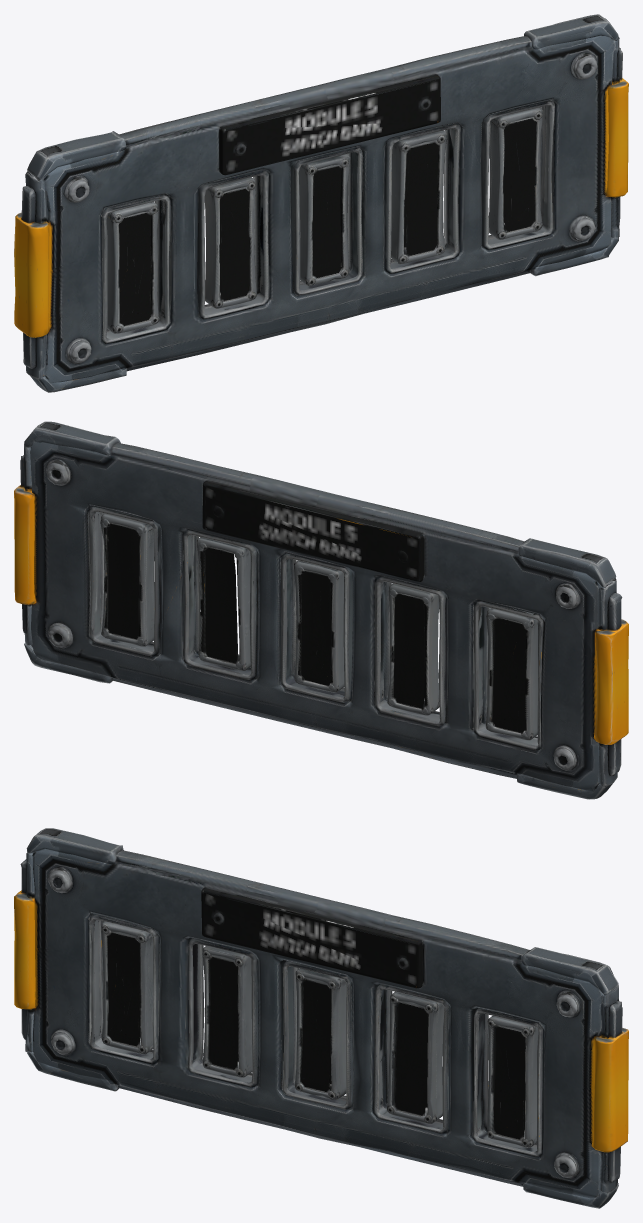
The model's file is SwitchBox.glb.
3 renders of one model, top to bottom at view 1: azimuth 30°, elevation 25°; view 2: azimuth 150°, elevation 25°; view 3: azimuth 330°, elevation 25°, orthographic.
Bounding box in the file's own units: 1 × 0.3848 × 0.0669.
Materials: 1 (1 with a texture image).
